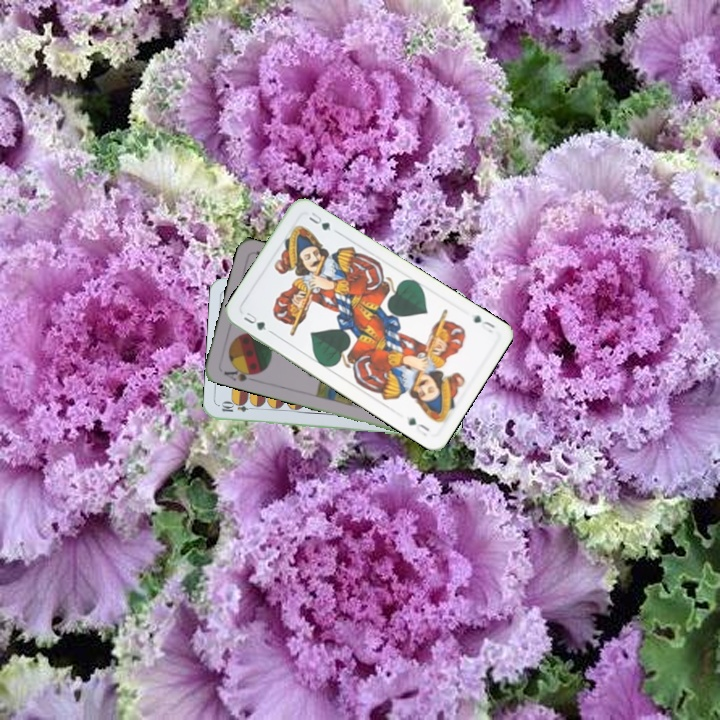E10: (217, 400, 258, 415)
GU: (239, 308, 269, 333), (470, 310, 498, 336)
SA: (220, 362, 260, 384)
